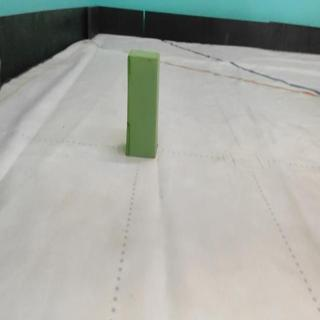greenbox: (123, 45, 161, 163)
